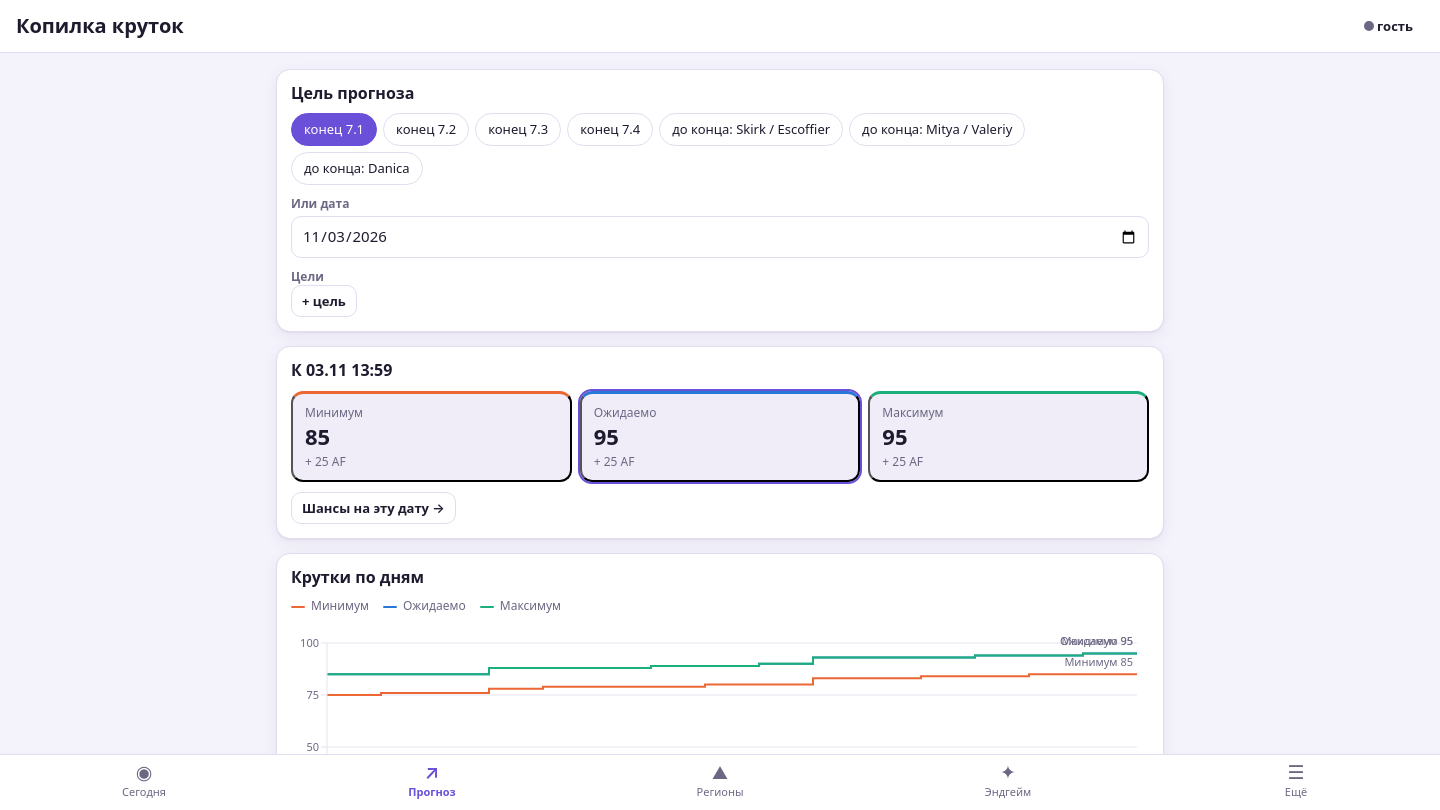
Test: M7: прогноз через интерфейс совпадает с доменом › цель «персонаж C0» с pity 23 без гаранта → 157 (TC-07), разрыв и дата достижения
This screenshot has width=1440, height=810.
Expected: the text with test id "pulls-expected" is shown, [594,421,619,451]
Step 1. Click the button "+ цель" → [324, 301], box [291,285,357,317]
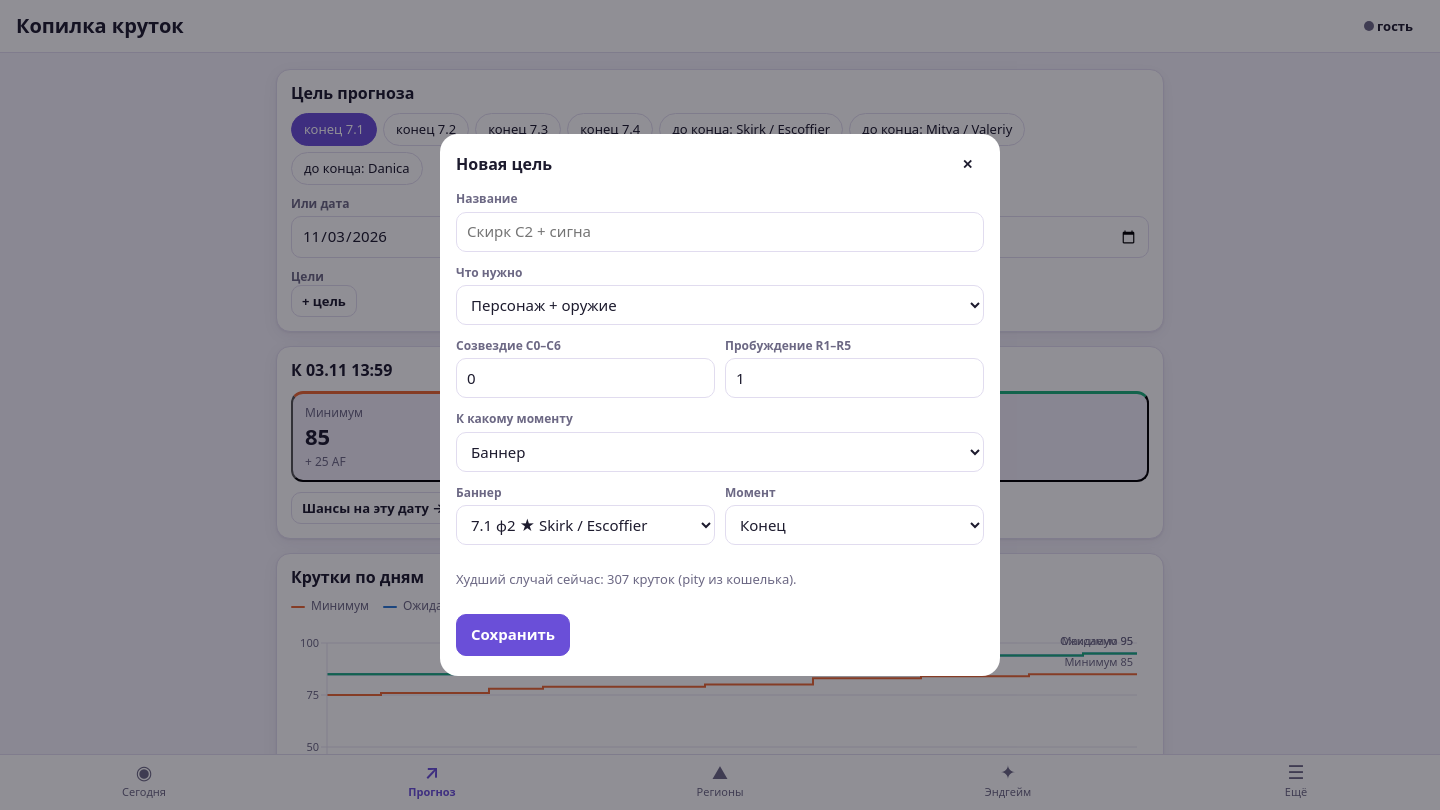
Step 2. Select "Персонаж (созвездие)" in the dropdown labelled "Что нужно" → [720, 305], box [456,285,984,325]
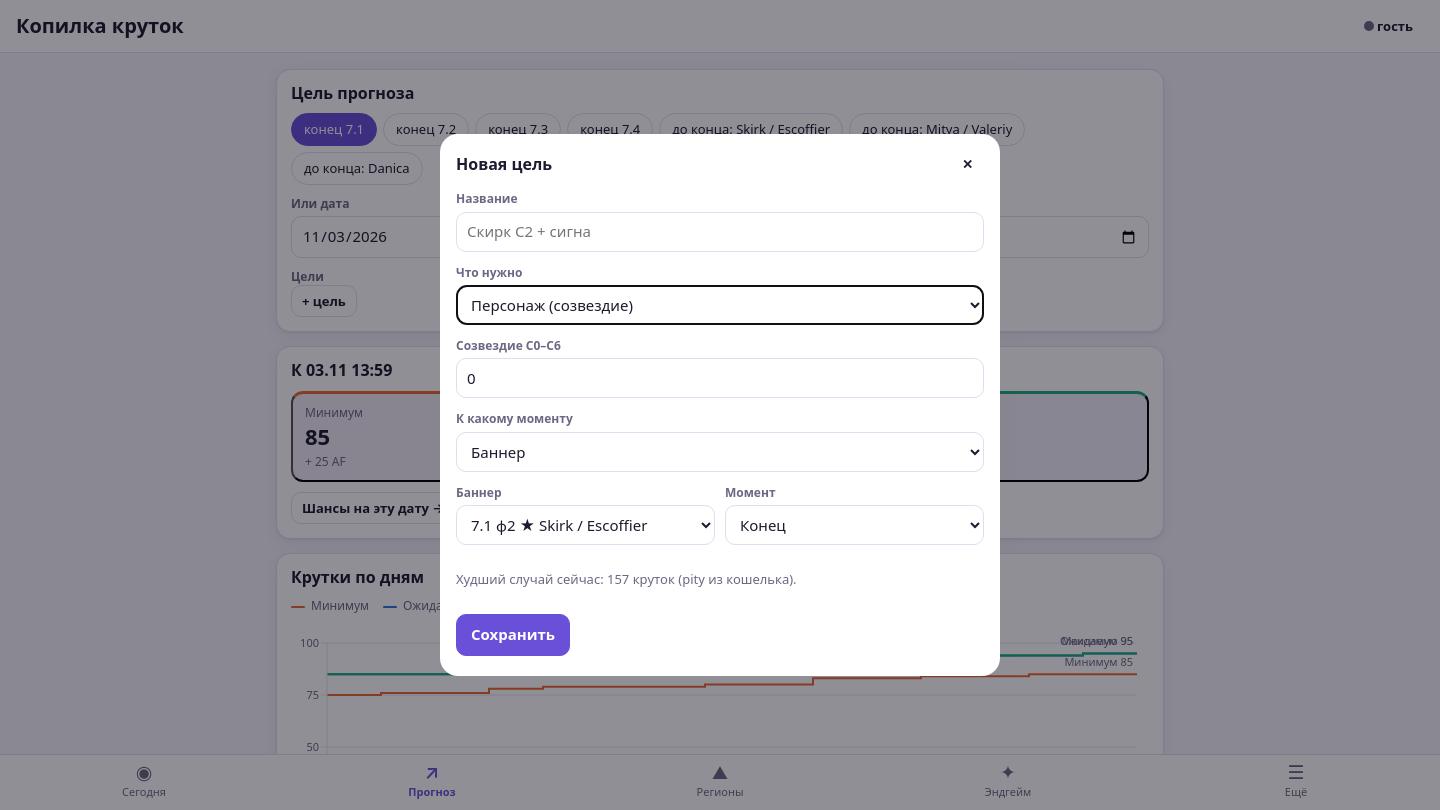
Step 3. Type "Скирк" into the field named "Название цели" → [720, 232], box [456,212,984,252]
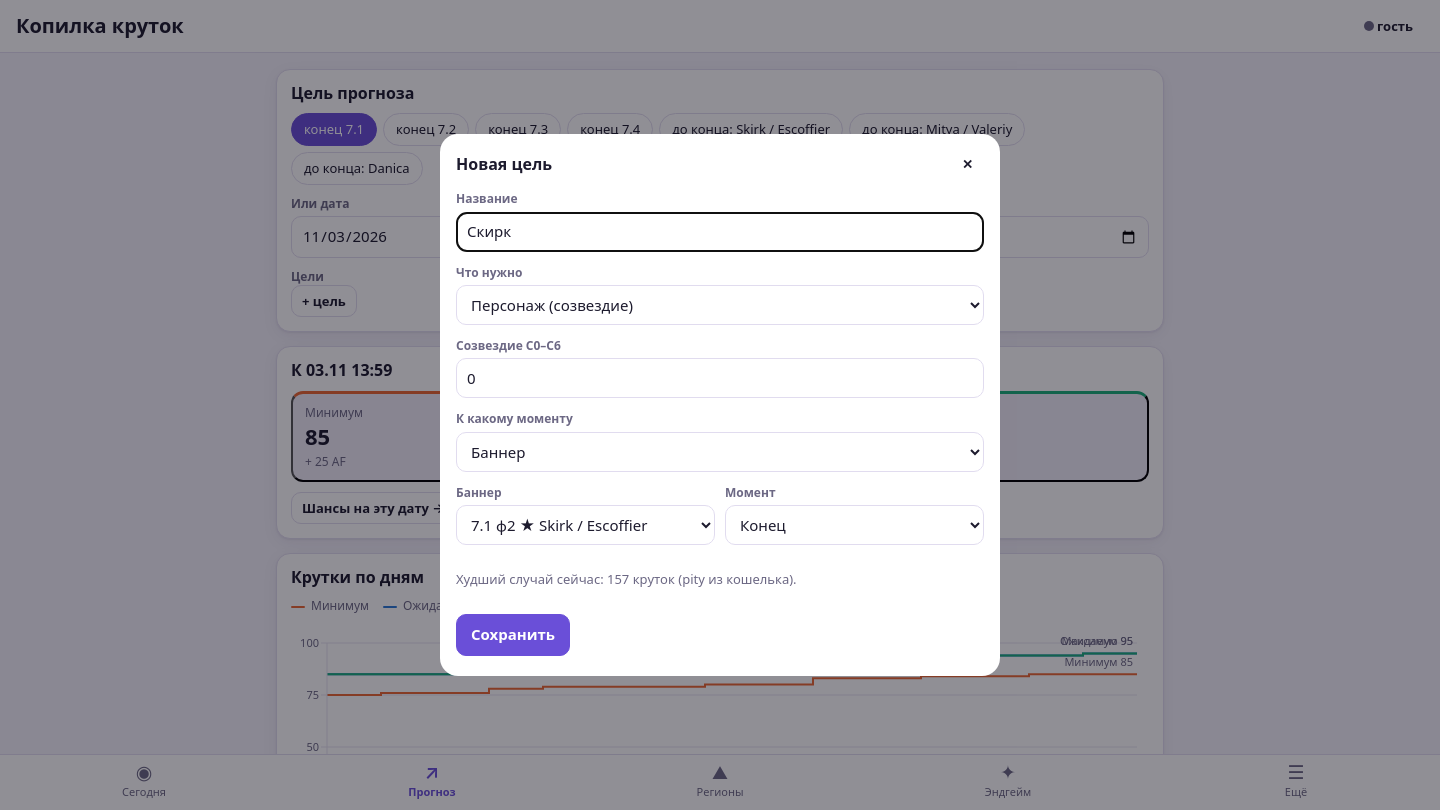
Step 4. Click the button "Сохранить" → [513, 635], box [456,614,570,656]
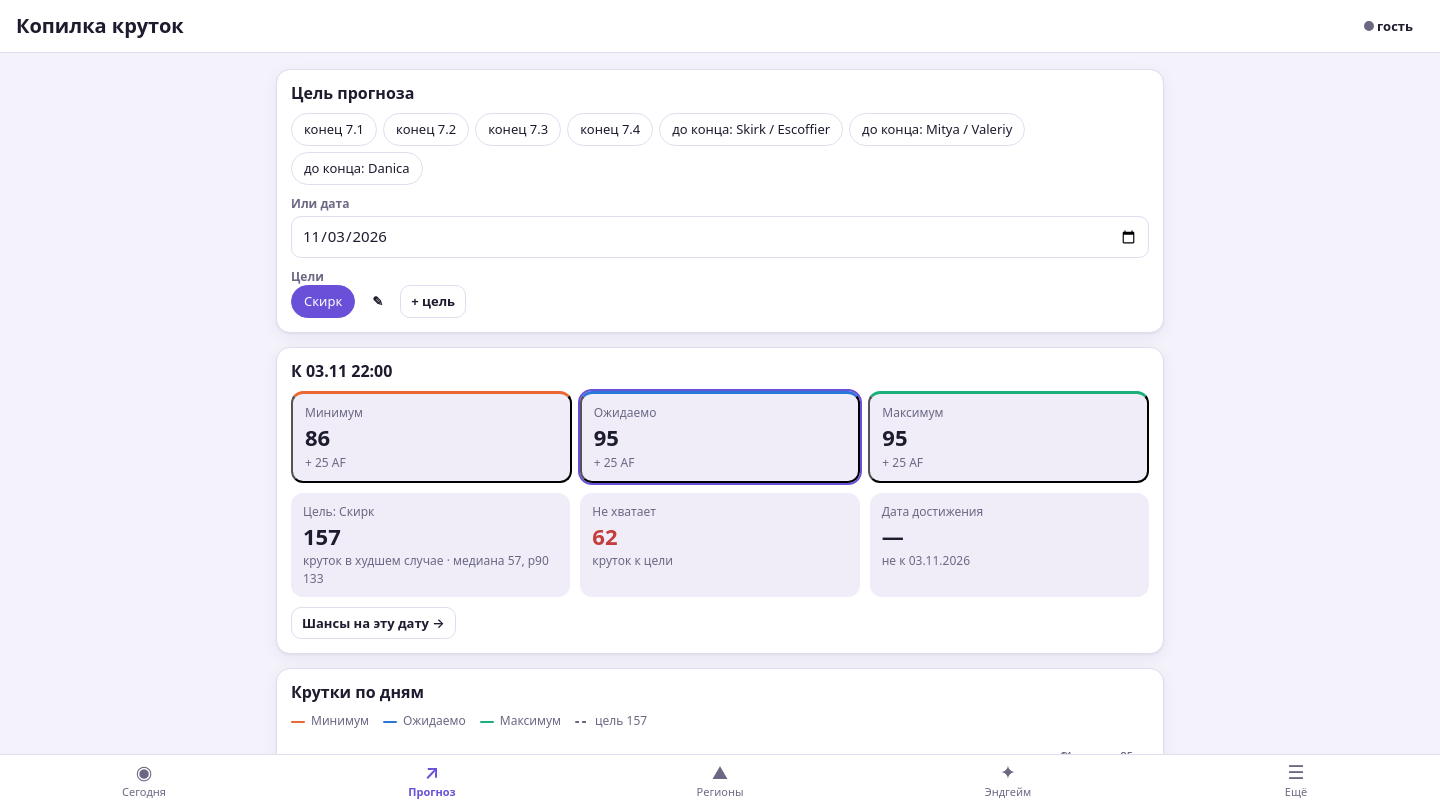
Expected: the text "62" is shown, [592,520,618,550]
Expected: the text "157" is shown, [303,520,341,550]
